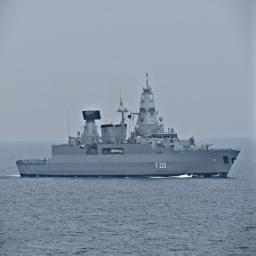Fragata: (17, 74, 245, 181)
